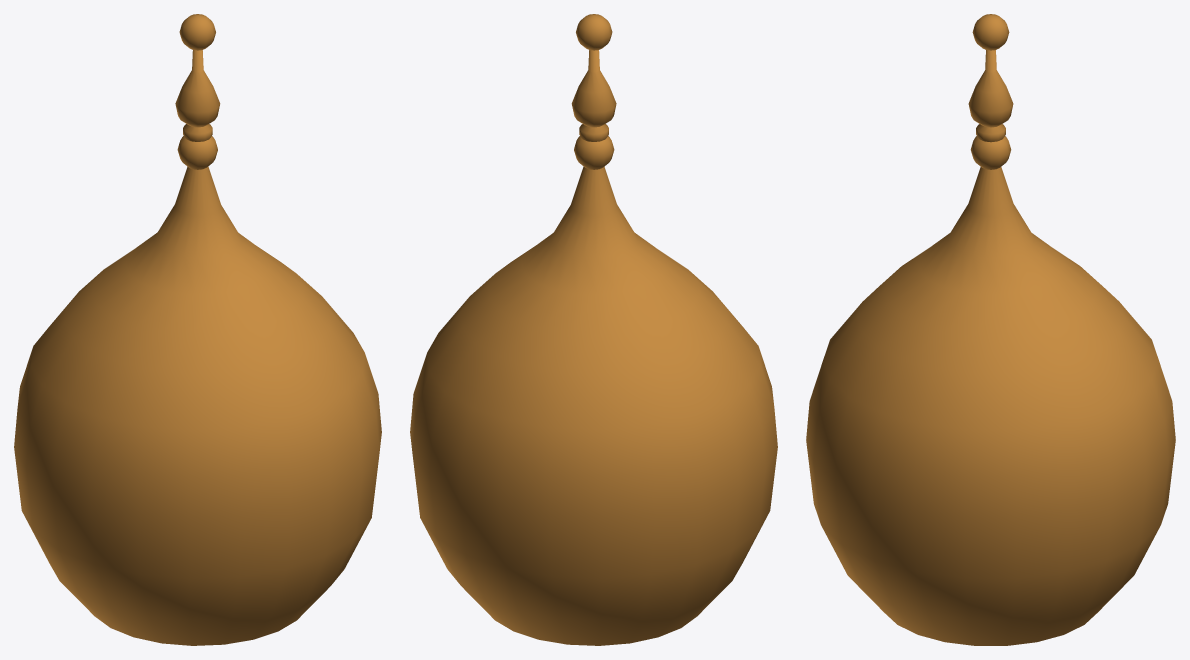
File: SM_dome_05.fbx
3 renders of one model, left to right at view 1: azimuth 30°, elevation 25°; view 2: azimuth 150°, elevation 25°; view 3: azimuth 270°, elevation 25°, orthographic.
Parts seen in each view (by area): view 1: Sphere039; view 2: Sphere039; view 3: Sphere039.
Boxes of the visible parts, left/top/right/bottom form: Sphere039: left=14, top=14, right=381, bottom=645; Sphere039: left=410, top=14, right=777, bottom=645; Sphere039: left=806, top=14, right=1175, bottom=645.
Bounding box in the file's own units: 108 × 190 × 109.
